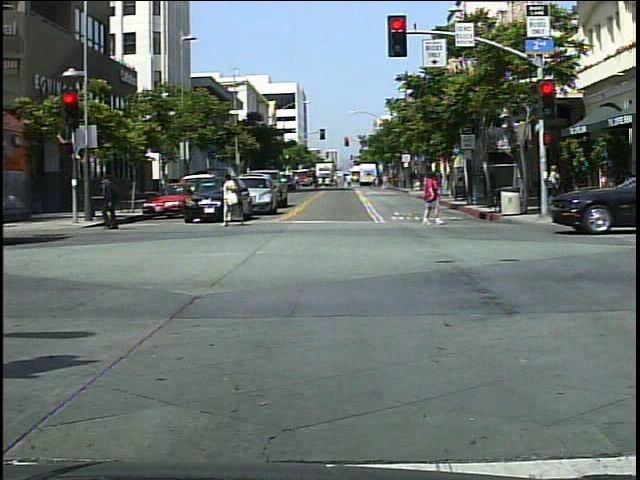person: (218, 166, 250, 230), (417, 167, 446, 232), (99, 168, 125, 233), (545, 160, 566, 204)
